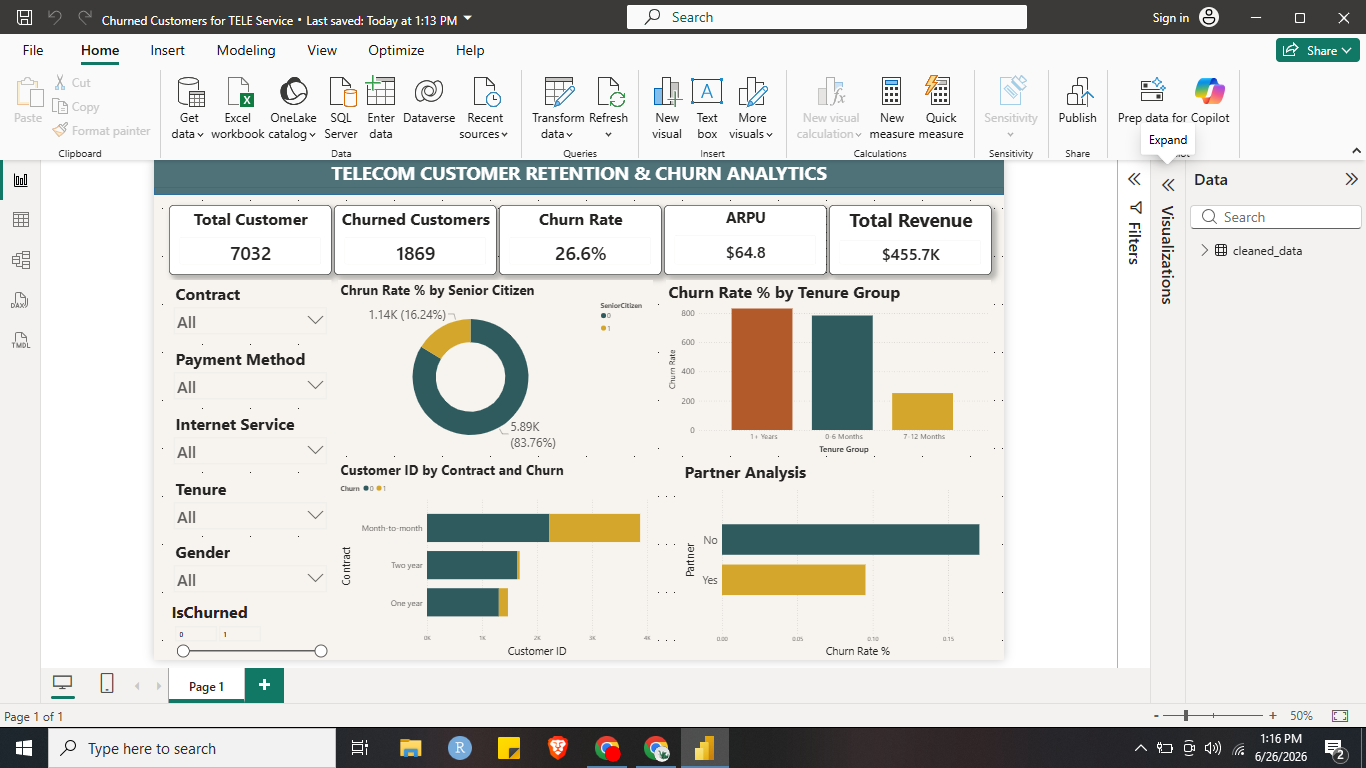

What the dashboard file says about the page in this screenshot:
{"tool":"powerbi","page":{"name":"Page 1","canvas":[1700,1000],"ordinal":0},"visuals":[{"type":"cardVisual","title":"Total Customer","fields":{"Data":["CountNonNull(cleaned_data.customerID)"]},"box":[30,90,325,140],"z":0},{"type":"cardVisual","title":"Churned Customers","fields":{"Data":["Sum(cleaned_data.Churn)"]},"box":[360,90,325,140],"z":1000},{"type":"cardVisual","title":"Churn Rate","fields":{"Data":["cleaned_data.Churn Rate"]},"box":[690,90,325,140],"z":2000},{"type":"cardVisual","title":"ARPU","fields":{"Data":["cleaned_data.Avg Monthly Charge"]},"box":[1020,90,325,140],"z":3000},{"type":"clusteredBarChart","title":"Partner Analysis","fields":{"Category":["cleaned_data.Partner"],"Y":["Sum(cleaned_data.Churn Rate %)"]},"box":[1024,600,650,400],"z":5000},{"type":"slicer","fields":{"Values":["cleaned_data.Contract"]},"box":[30,240,325,120],"z":6000},{"type":"slicer","fields":{"Values":["cleaned_data.InternetService"]},"box":[30,500,325,120],"z":7000},{"type":"slicer","fields":{"Values":["cleaned_data.gender"]},"box":[30,755,325,120],"z":8000},{"type":"shape","title":"TELECOM CUSTOMER RETENTION & CHURN ANALYTICS","box":[0,0,1700,70],"z":9000},{"type":"cardVisual","title":"Total Revenue","fields":{"Data":["Sum(cleaned_data.MonthlyCharges)"]},"box":[1350,90,325,140],"z":10000},{"type":"slicer","fields":{"Values":["cleaned_data.PaymentMethod"]},"box":[30,370,325,120],"z":11000},{"type":"slicer","fields":{"Values":["cleaned_data.tenure"]},"box":[30,630,325,120],"z":12000},{"type":"slicer","title":"IsChurned","fields":{"Values":["cleaned_data.Churn"]},"box":[30,880,325,120],"z":13000},{"type":"barChart","title":"Customer ID by Contract and Churn","fields":{"Category":["cleaned_data.Contract","cleaned_data.InternetService","cleaned_data.PaymentMethod"],"Series":["cleaned_data.Churn"],"Y":["CountNonNull(cleaned_data.customerID)"]},"box":[368,600,630,400],"z":14000},{"type":"clusteredColumnChart","title":"Churn Rate % by Tenure Group","fields":{"Category":["cleaned_data.Tenure Group"],"Y":["CountNonNull(cleaned_data.Churn Rate %)"]},"box":[1024,240,650,352],"z":15000},{"type":"donutChart","title":"Chrun Rate % by Senior Citizen","fields":{"Category":["cleaned_data.SeniorCitizen"],"Y":["CountNonNull(cleaned_data.customerID)"]},"box":[368,240,630,352],"z":16000}]}

Visuals, with their boxes on the page's 1700x1000 design canvas (x1, y1, x2, y2). These are canvas units, not pixel positions in the 1366x768 screenshot, which may show the page scaled, cropped or inside an application window:
"Total Customer" cardVisual: select_region(30, 90, 355, 230)
"Churned Customers" cardVisual: select_region(360, 90, 685, 230)
"Churn Rate" cardVisual: select_region(690, 90, 1015, 230)
"ARPU" cardVisual: select_region(1020, 90, 1345, 230)
"Partner Analysis" clusteredBarChart: select_region(1024, 600, 1674, 1000)
slicer - cleaned_data.Contract: select_region(30, 240, 355, 360)
slicer - cleaned_data.InternetService: select_region(30, 500, 355, 620)
slicer - cleaned_data.gender: select_region(30, 755, 355, 875)
"TELECOM CUSTOMER RETENTION & CHURN ANALYTICS" shape: select_region(0, 0, 1700, 70)
"Total Revenue" cardVisual: select_region(1350, 90, 1675, 230)
slicer - cleaned_data.PaymentMethod: select_region(30, 370, 355, 490)
slicer - cleaned_data.tenure: select_region(30, 630, 355, 750)
"IsChurned" slicer: select_region(30, 880, 355, 1000)
"Customer ID by Contract and Churn" barChart: select_region(368, 600, 998, 1000)
"Churn Rate % by Tenure Group" clusteredColumnChart: select_region(1024, 240, 1674, 592)
"Chrun Rate % by Senior Citizen" donutChart: select_region(368, 240, 998, 592)
